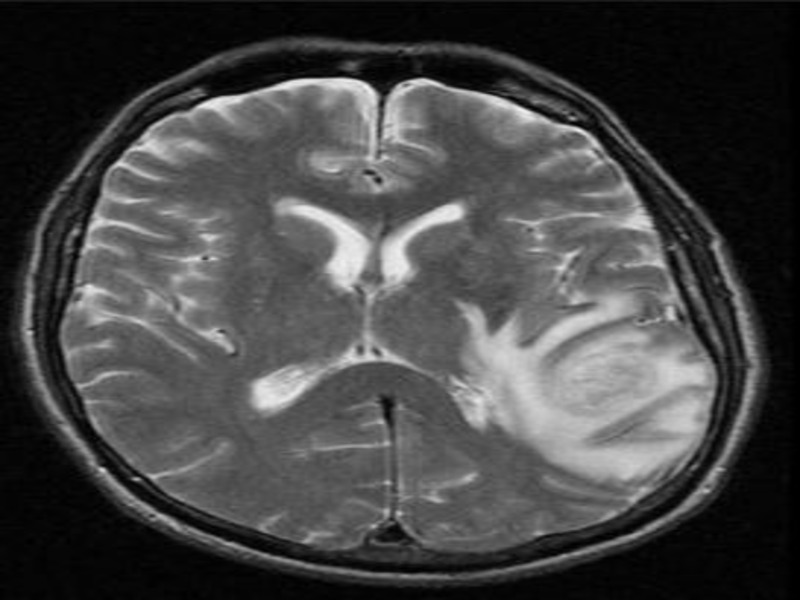tumor: (447, 288, 696, 455)
